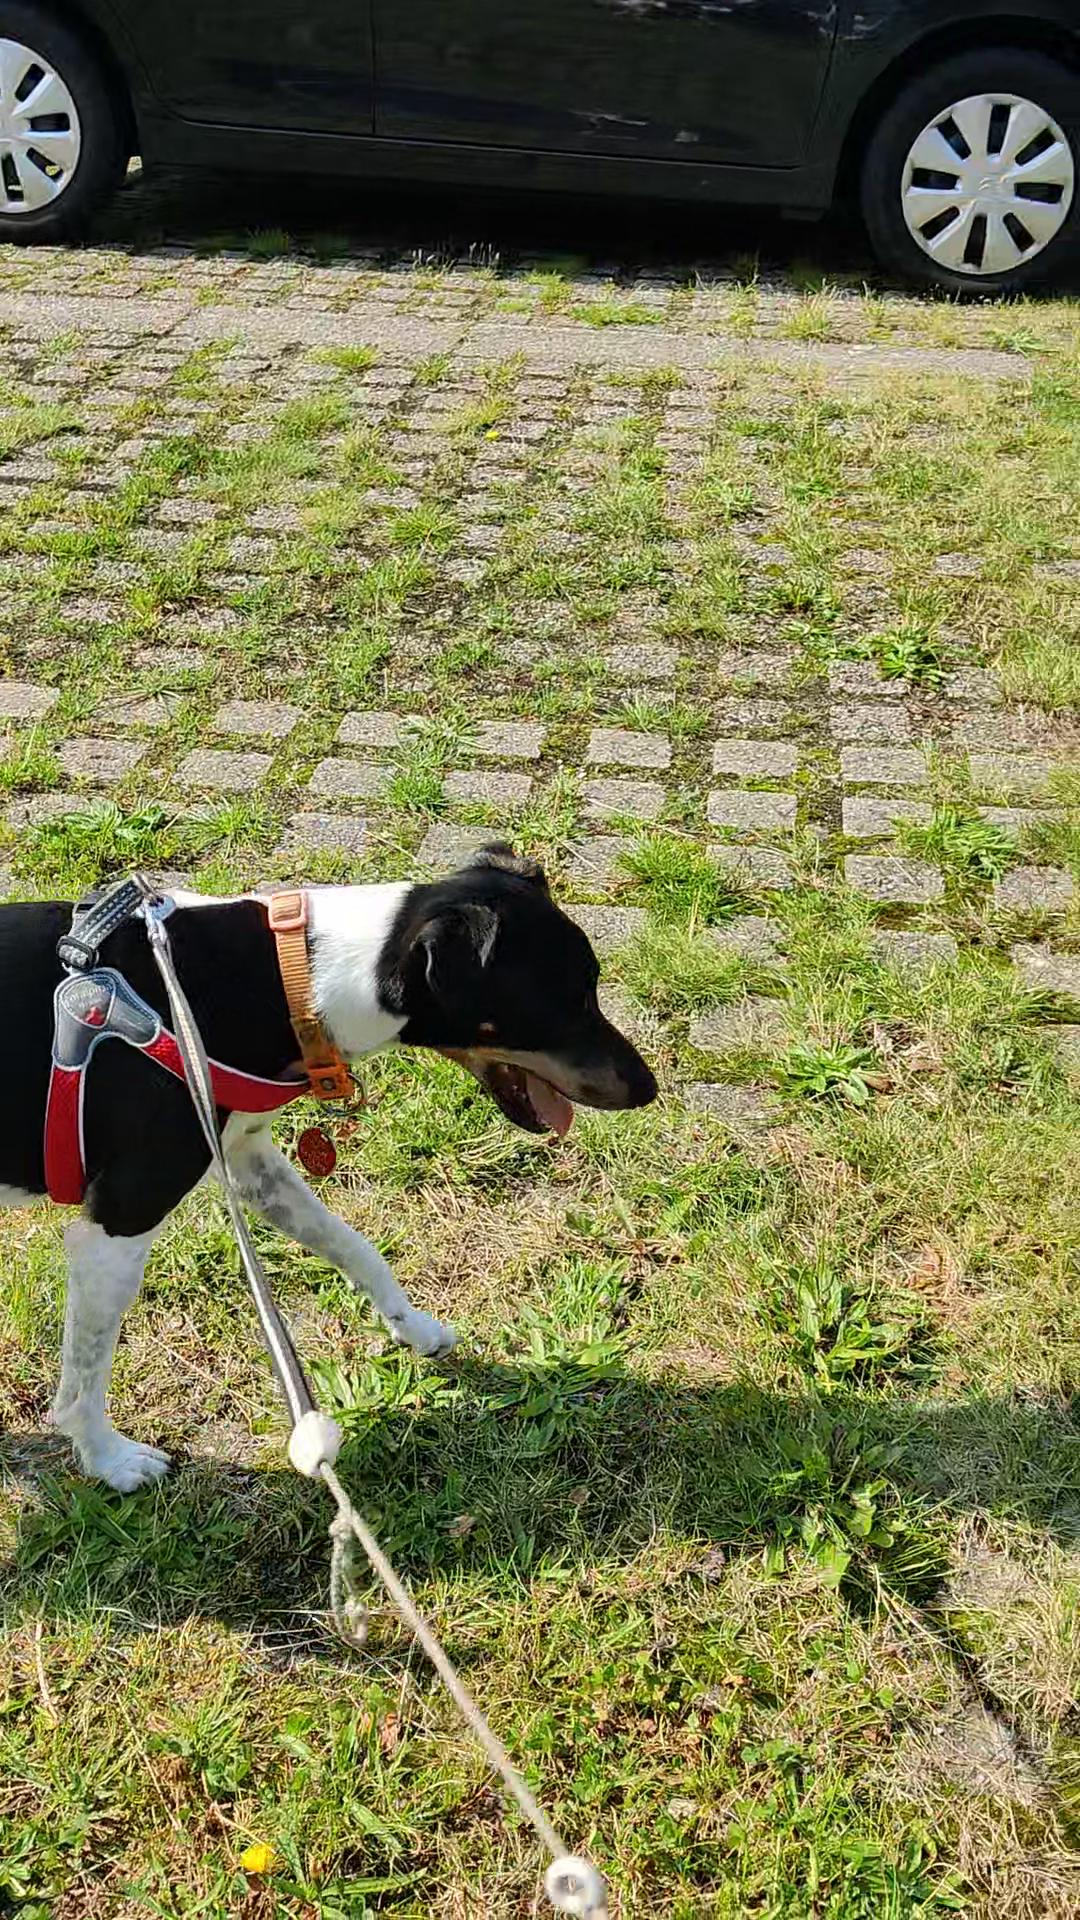Dog: (0, 832, 671, 1495)
